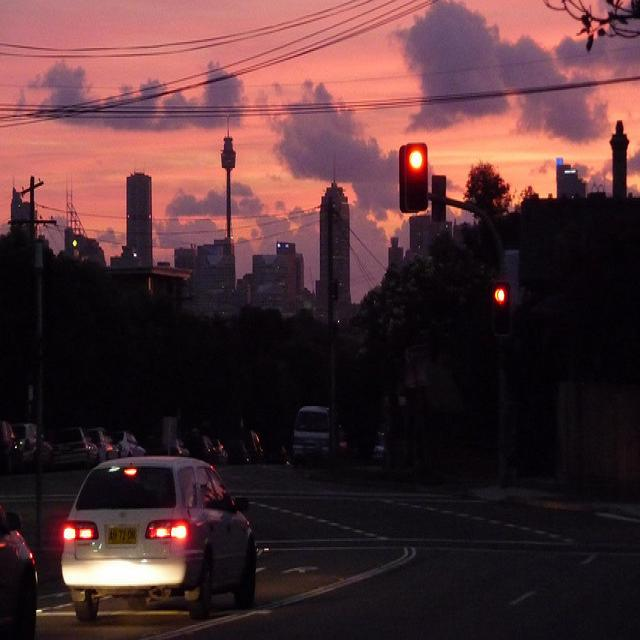Vehicle: (60, 458, 259, 623), (2, 434, 80, 581), (0, 503, 38, 640), (290, 404, 329, 474), (293, 406, 329, 458), (53, 426, 92, 472), (176, 432, 220, 466), (83, 427, 122, 464), (115, 430, 147, 457), (174, 438, 190, 457)
